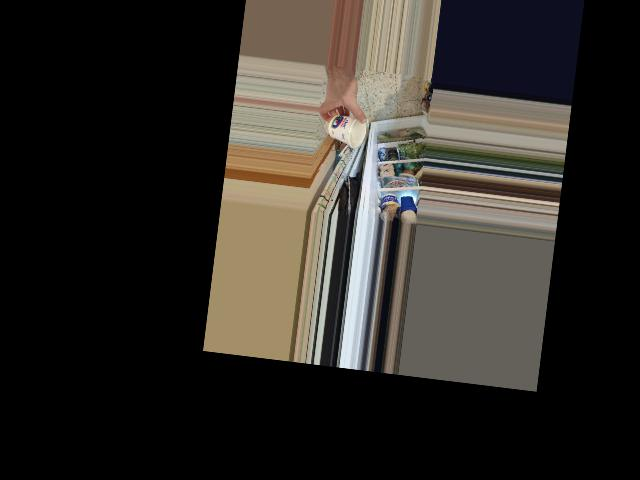cotage: (324, 110, 367, 148)
